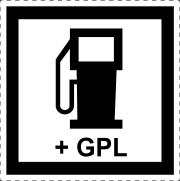Petrol Pump- Gas Station: (15, 10, 166, 168)
